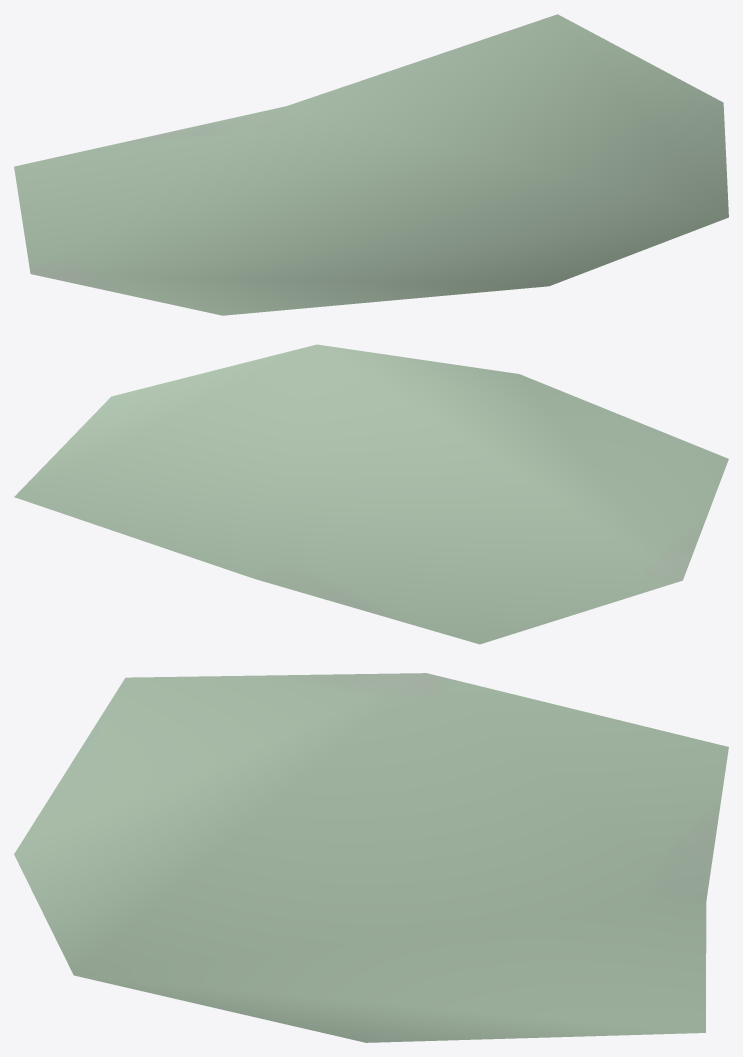
Rendered from TROLLHOLE02_HOLECAP129.fbx.
3 renders of one model, top to bottom at view 1: azimuth 30°, elevation 25°; view 2: azimuth 150°, elevation 25°; view 3: azimuth 270°, elevation 25°, orthographic. The views are drawn at different scales.
Parts seen in each view (by area): view 1: TROLLHOLE02_HOLECAP129; view 2: TROLLHOLE02_HOLECAP129; view 3: TROLLHOLE02_HOLECAP129.
Boxes of the visible parts, bbox=[...] form: TROLLHOLE02_HOLECAP129: bbox=[14, 14, 728, 315]; TROLLHOLE02_HOLECAP129: bbox=[14, 344, 728, 644]; TROLLHOLE02_HOLECAP129: bbox=[14, 673, 728, 1042].
Bounding box in the file's own units: 28963 × 1604 × 21756.
1 material, 1 textured.
